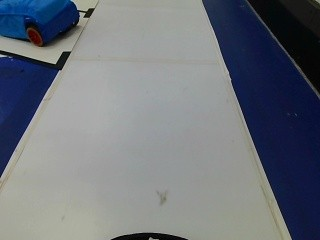car: (0, 0, 80, 49)
